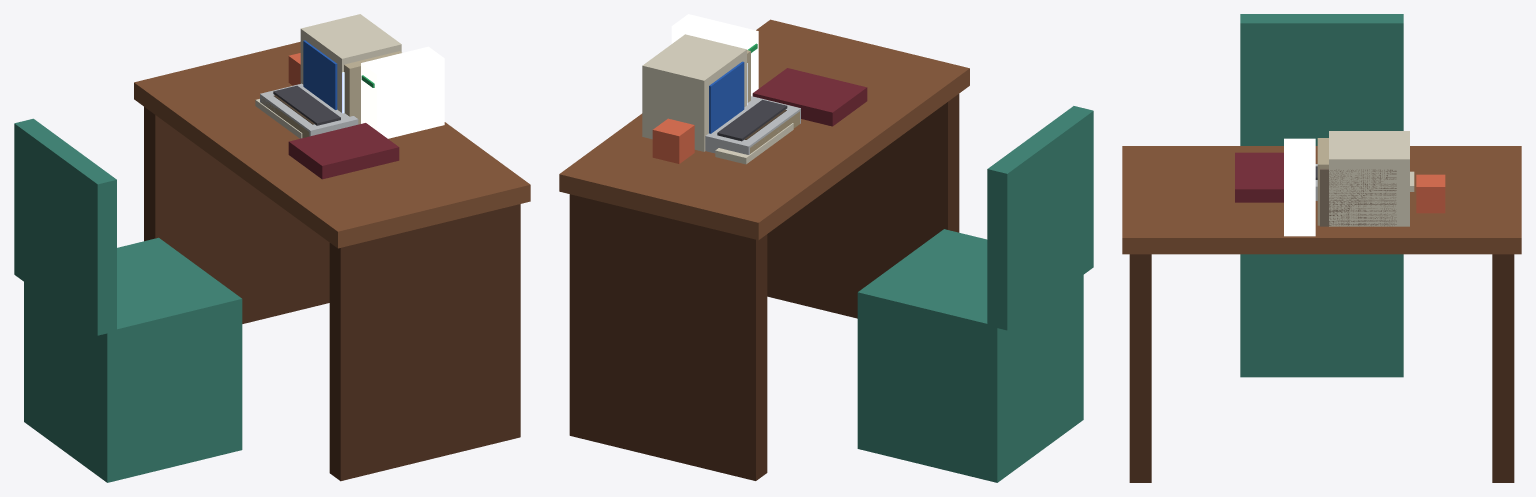
The model's file is desk.glb.
The picture shows the model from 3 angles, left to right: view 1: azimuth 30°, elevation 25°; view 2: azimuth 150°, elevation 25°; view 3: azimuth 270°, elevation 25°; orthographic projection. The views are drawn at different scales.
Parts seen in each view (by area): view 1: Box3, Box6, Box1, Box2, Box7, Box11, Box4, Box9, Box10, Box17, Box18, Box15; view 2: Box2, Box6, Box1, Box3, Box7, Box9, Box4, Box11, Box10, Box5, Box17, Box18 (+1 smaller); view 3: Box1, Box6, Box7, Box9, Box2, Box3, Box11, Box4, Box19, Box5, Box15.
Part boxes in pixels (x1,y1,x2,y2): Box3: (329, 204, 520, 481); Box6: (24, 237, 242, 482); Box1: (134, 41, 530, 248); Box2: (144, 107, 329, 323); Box7: (14, 118, 116, 335); Box11: (361, 46, 444, 138); Box4: (288, 123, 399, 179); Box9: (300, 14, 401, 112); Box10: (303, 40, 337, 109); Box17: (260, 83, 358, 136); Box18: (273, 85, 340, 125); Box15: (344, 51, 401, 124); Box2: (569, 194, 767, 480); Box6: (857, 229, 1083, 482); Box1: (559, 19, 969, 240); Box3: (767, 94, 959, 318); Box7: (987, 106, 1093, 330); Box9: (642, 34, 746, 151); Box4: (752, 68, 867, 126); Box11: (671, 14, 758, 96); Box10: (709, 61, 744, 133); Box5: (652, 118, 694, 163); Box17: (705, 96, 800, 154); Box18: (717, 99, 787, 141); Box1: (1122, 146, 1521, 254); Box6: (1240, 254, 1403, 377); Box7: (1240, 14, 1403, 145); Box9: (1329, 131, 1409, 226); Box2: (1492, 254, 1514, 482); Box3: (1129, 254, 1151, 482); Box11: (1284, 138, 1315, 236); Box4: (1235, 152, 1283, 202); Box19: (1320, 168, 1396, 226); Box5: (1416, 174, 1445, 213); Box15: (1317, 138, 1328, 225).
Bounding box in the file's own units: 1.16 × 0.9596 × 1.1.
